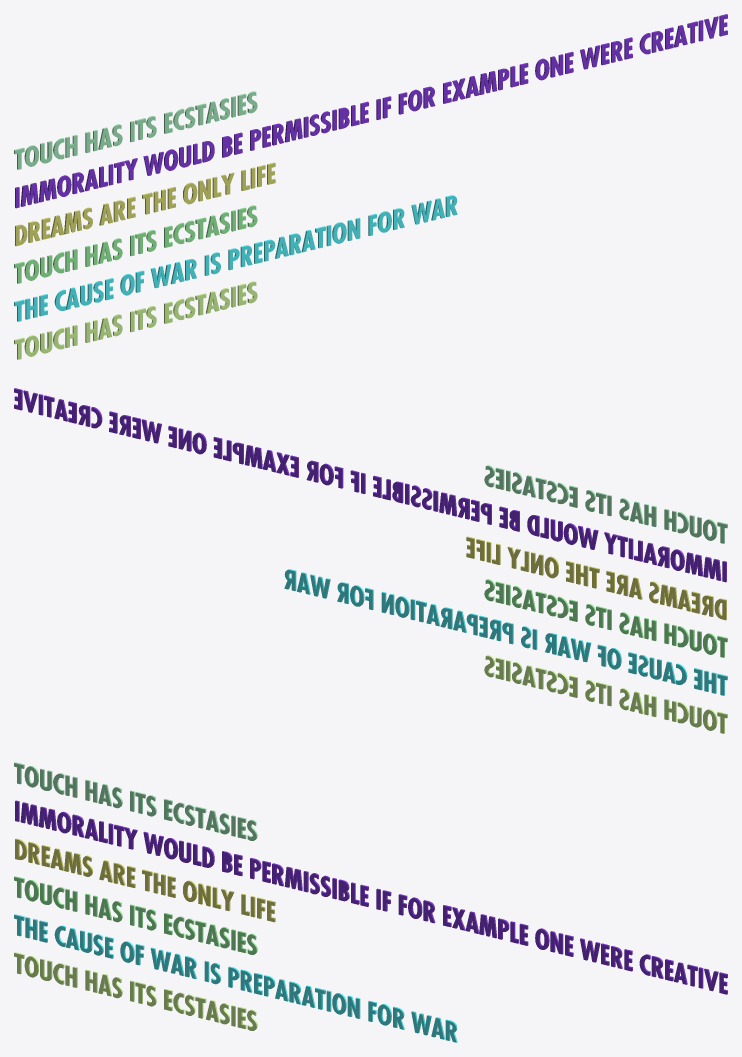
The model's file is entity.glb.
3 renders of one model, top to bottom at view 1: azimuth 30°, elevation 25°; view 2: azimuth 150°, elevation 25°; view 3: azimuth 330°, elevation 25°, orthographic.
Bounding box in the file's own units: 19.63 × 5.54 × 0.05.
